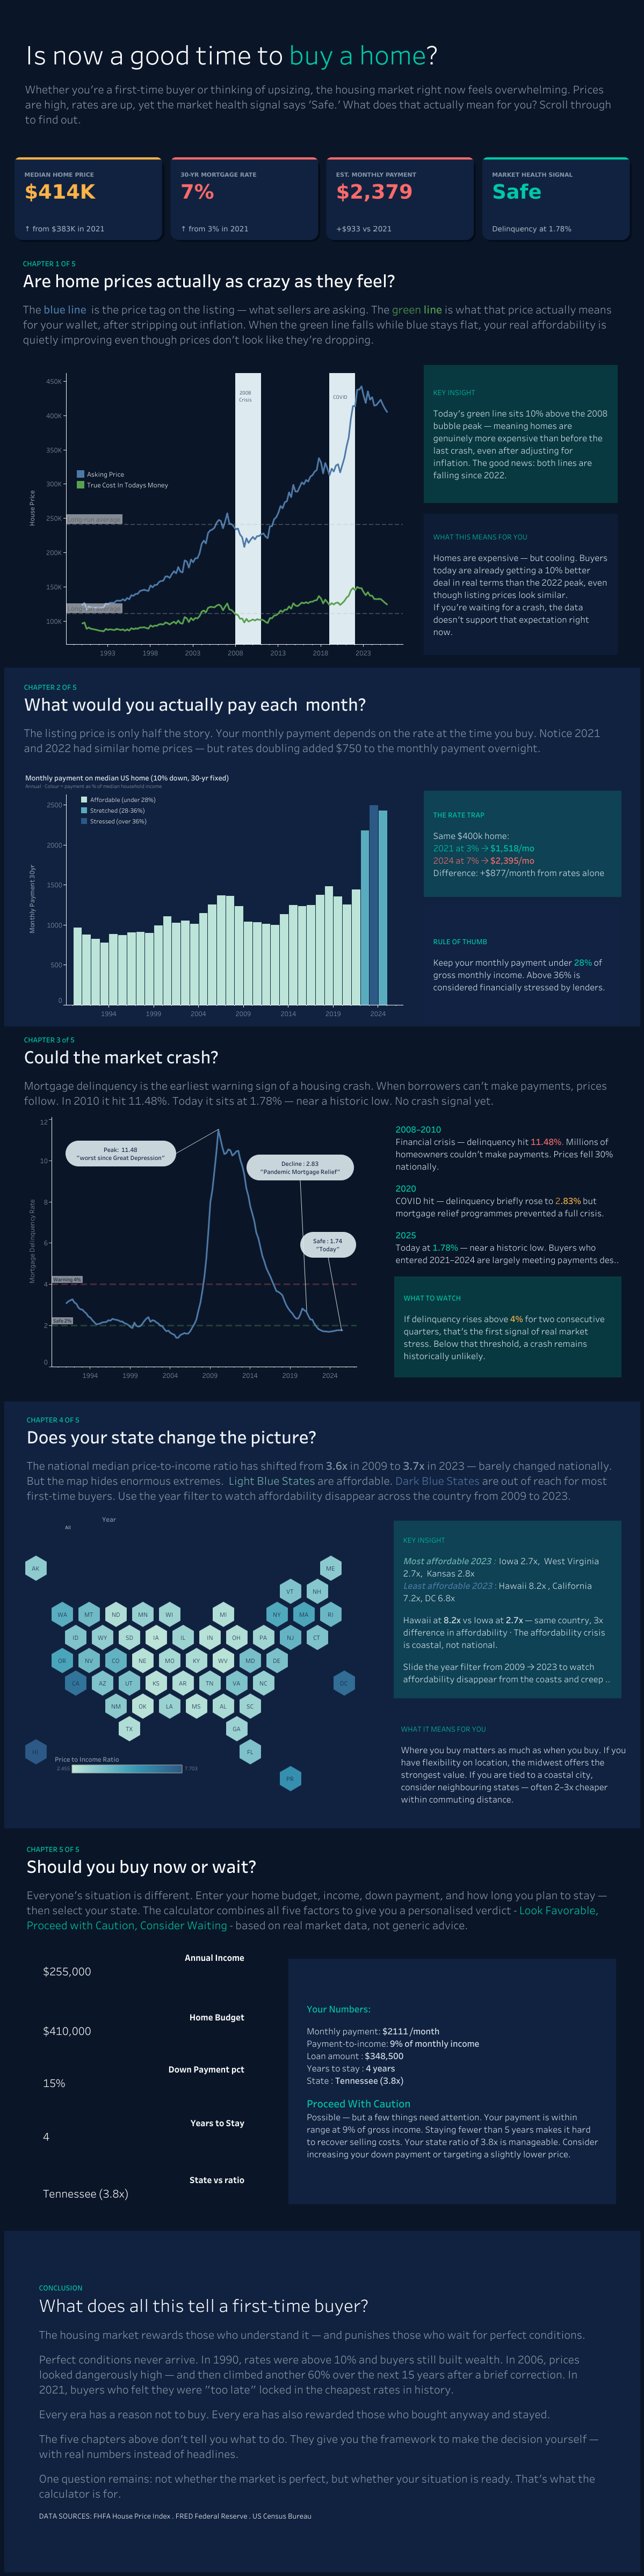

The page's visual inventory and layout, read from the dashboard file:
{"tool":"tableau","page":{"name":"Housing Market","canvas":[1200,4800],"ordinal":0},"visuals":[{"type":"text","box":[8,8,1184,263.5]},{"type":"image","param":"Image/kpi_cards_1.png","box":[8,271.5,1184,198.1]},{"type":"text","box":[8,469.6,1184,210]},{"type":"worksheet","title":"price vs querter","mark":"Line","rows":["Median_Home_Price","True_Cost_In_Todays_Money"],"cols":["observation_date"],"box":[8,679.6,777,560]},{"type":"text","box":[785,679.6,369,267]},{"type":"legend","title":"price vs querter","param":"[federated.10h0d4c1og85p712g1zwb0hvx6e8].[:Measure Names]","box":[140,872.7,306,65.5]},{"type":"text","box":[785,946.6,369,293]},{"type":"text","box":[8,1243.6,1184,189]},{"type":"worksheet","title":"affordablity vs payment","mark":"Bar","rows":["Monthly_Payment_30yr"],"cols":["Year"],"box":[8,1432.6,777,479]},{"type":"text","box":[785,1432.6,407,248]},{"type":"legend","title":"affordablity vs payment","param":"[federated.0m6hyn2172ixgn1edppre0zjle0e].[none:Affordability_Zone:nk]","box":[146,1479,244,141]},{"type":"text","box":[785,1680.6,407,231]},{"type":"text","box":[8,1911.6,1184,167]},{"type":"worksheet","title":"market health","mark":"Line","rows":["Mortgage_Delinquency_Pct"],"cols":["Quarter"],"box":[8,2080.6,691,510]},{"type":"text","box":[699,2080.6,493,297]},{"type":"text","box":[699,2377.6,493,213]},{"type":"text","box":[8,2610.6,1184,218]},{"type":"filter","title":"state map (price to income)","param":"[federated.10egac10zhcvp9153zb3702uqpue].[yr:year:ok]","box":[119,2820,168,70]},{"type":"worksheet","title":"state map (price to income)","mark":"Shape","box":[8,2828.6,721,577.3]},{"type":"text","box":[729,2828.6,463,339.3]},{"type":"text","box":[729,3168,463,238]},{"type":"legend","title":"state map (price to income)","param":"[federated.10egac10zhcvp9153zb3702uqpue].[avg:Price_to_Income_Ratio:qk]","box":[102,3264,271,102]},{"type":"text","box":[8,3406,1184,223]},{"type":"parameter","param":"[Parameters].[Parameter 2]","box":[43,3629,447,111]},{"type":"worksheet","title":"Verdict","mark":"Text","box":[522,3629,660,507]},{"type":"parameter","param":"[Parameters].[Parameter 1]","box":[43,3740,447,97]},{"type":"parameter","param":"[Parameters].[Parameter 3]","box":[43,3837,447,100]},{"type":"parameter","param":"[Parameters].[Parameter 4]","box":[43,3937,447,106]},{"type":"parameter","param":"[Parameters].[Parameter 5]","box":[43,4042.9,447,92]},{"type":"text","box":[8,4156,1184,636]}]}

Visuals, with their boxes in screenshot pixels (x1, y1, x2, y2), scaled from the page's 1200x4800 canvas onto the 644x2576 screenshot:
text: x1=4 y1=4 x2=640 y2=145
image: x1=4 y1=145 x2=640 y2=252
text: x1=4 y1=252 x2=640 y2=364
"price vs querter" worksheet (Line marks): x1=4 y1=364 x2=421 y2=665
text: x1=421 y1=364 x2=619 y2=508
"price vs querter" legend: x1=75 y1=469 x2=240 y2=503
text: x1=421 y1=508 x2=619 y2=665
text: x1=4 y1=667 x2=640 y2=769
"affordablity vs payment" worksheet (Bar marks): x1=4 y1=769 x2=421 y2=1026
text: x1=421 y1=769 x2=640 y2=902
"affordablity vs payment" legend: x1=78 y1=794 x2=209 y2=870
text: x1=421 y1=902 x2=640 y2=1026
text: x1=4 y1=1026 x2=640 y2=1115
"market health" worksheet (Line marks): x1=4 y1=1116 x2=375 y2=1390
text: x1=375 y1=1116 x2=640 y2=1276
text: x1=375 y1=1276 x2=640 y2=1390
text: x1=4 y1=1401 x2=640 y2=1518
"state map (price to income)" filter: x1=64 y1=1513 x2=154 y2=1551
"state map (price to income)" worksheet (Shape marks): x1=4 y1=1518 x2=391 y2=1828
text: x1=391 y1=1518 x2=640 y2=1700
text: x1=391 y1=1700 x2=640 y2=1828
"state map (price to income)" legend: x1=55 y1=1752 x2=200 y2=1806
text: x1=4 y1=1828 x2=640 y2=1947
parameter: x1=23 y1=1947 x2=263 y2=2007
"Verdict" worksheet (Text marks): x1=280 y1=1947 x2=634 y2=2220
parameter: x1=23 y1=2007 x2=263 y2=2059
parameter: x1=23 y1=2059 x2=263 y2=2113
parameter: x1=23 y1=2113 x2=263 y2=2170
parameter: x1=23 y1=2170 x2=263 y2=2219
text: x1=4 y1=2230 x2=640 y2=2572
